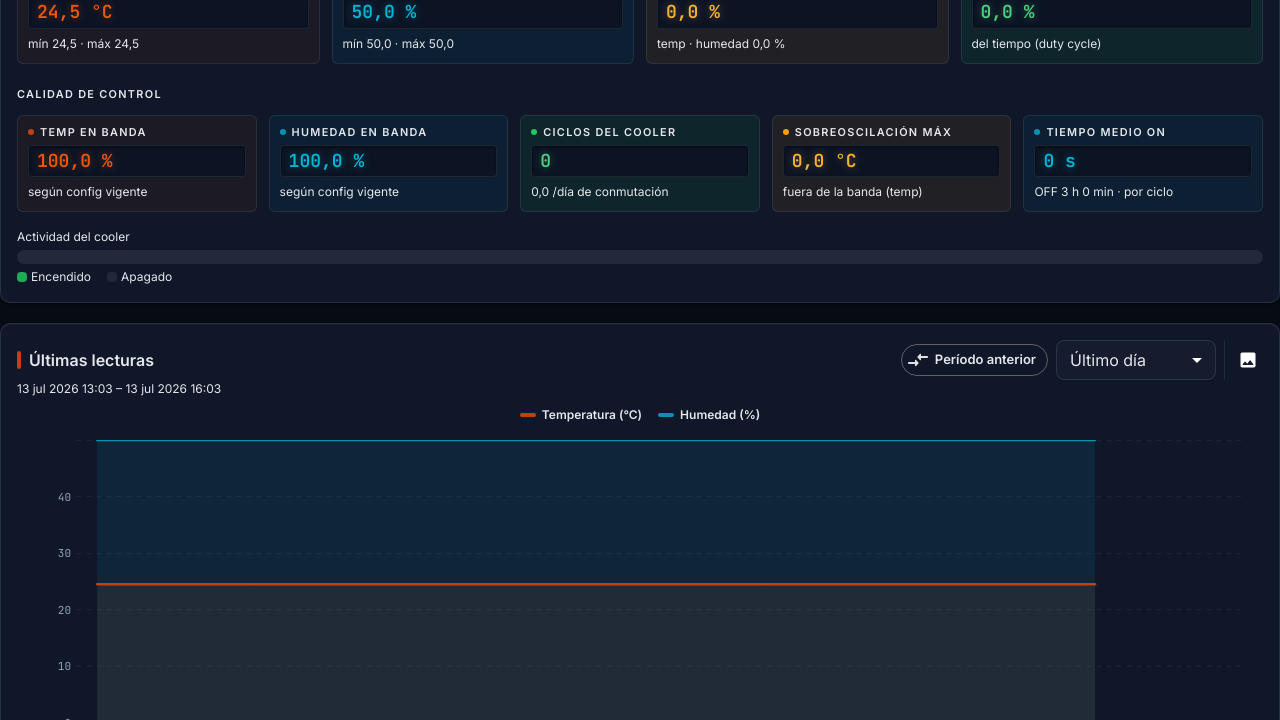
Scenario: DashboardPage › reflects a range change in the "Últimas lecturas" chart
The image size is (1280, 720).
(page scrolled)
Check: the text "Sin lecturas en este rango" is not shown
Step 1. Press the mouse on the dropdown → (1108, 360), box [1070,350,1146,370]
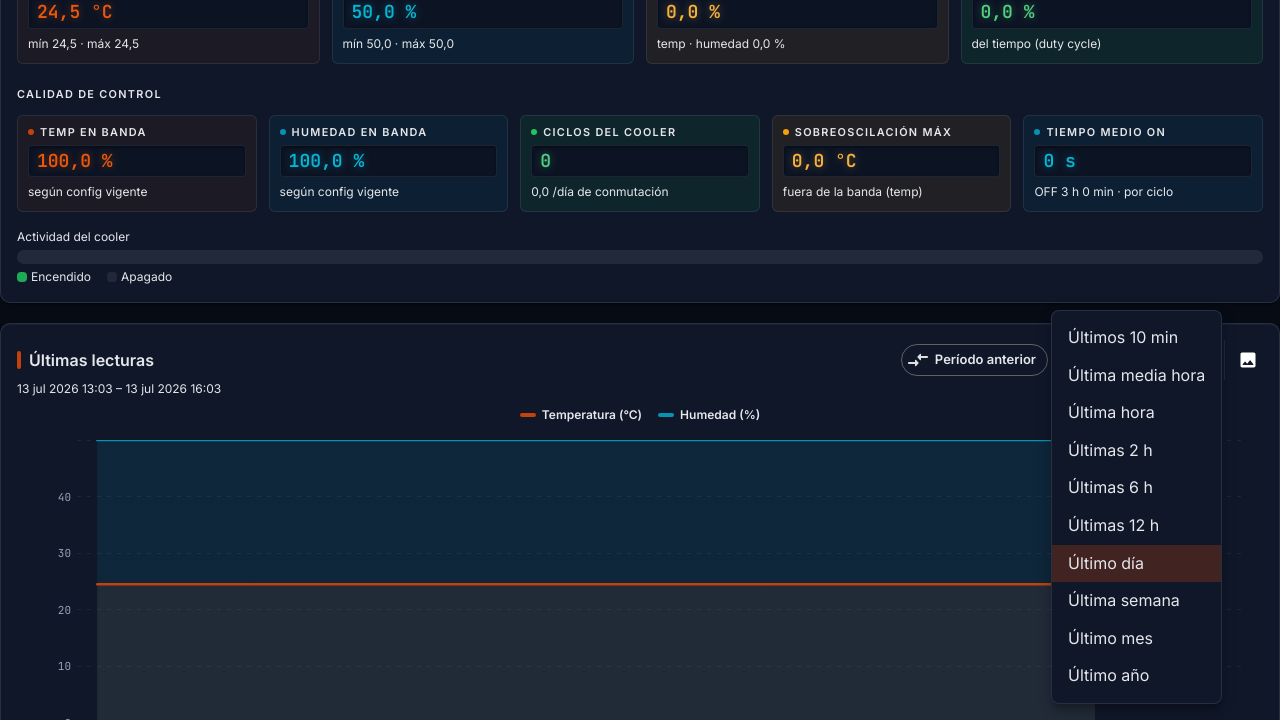
Step 2. Click the option "Última hora" → (1111, 412), box [1068,402,1155,422]
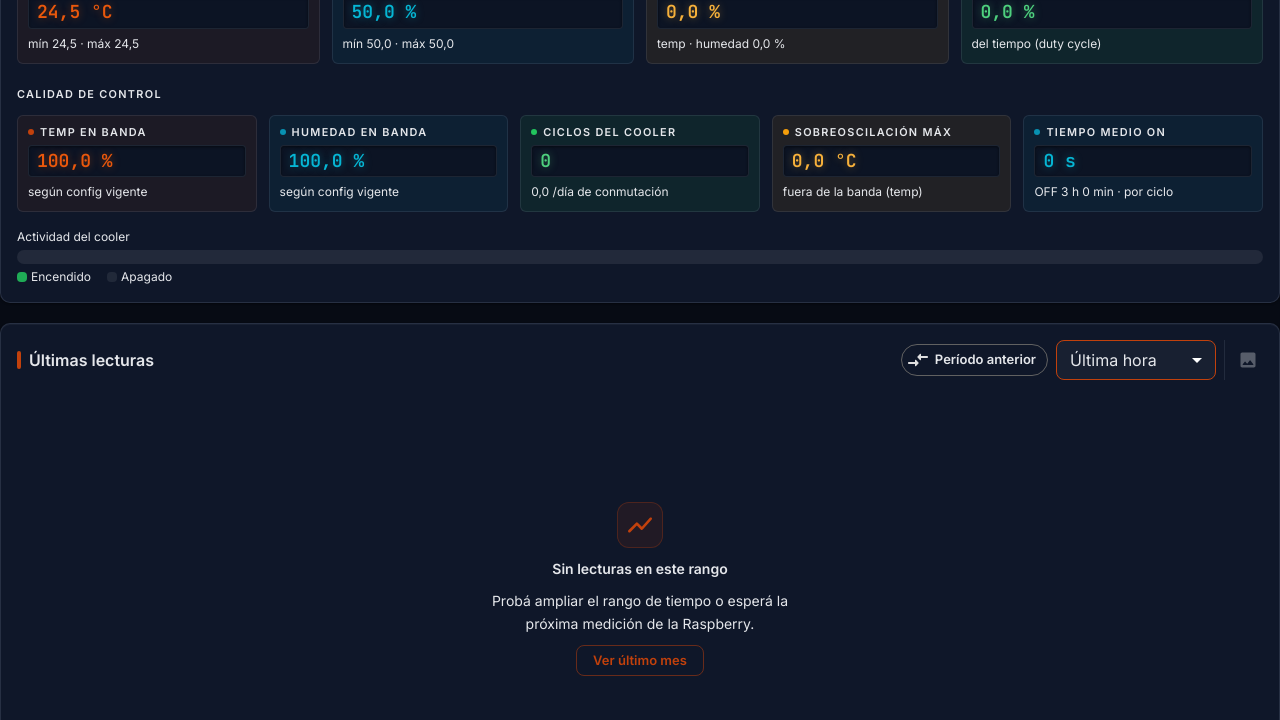
Check: the heading "Sin lecturas en este rango" is shown, box [552,558,728,580]
